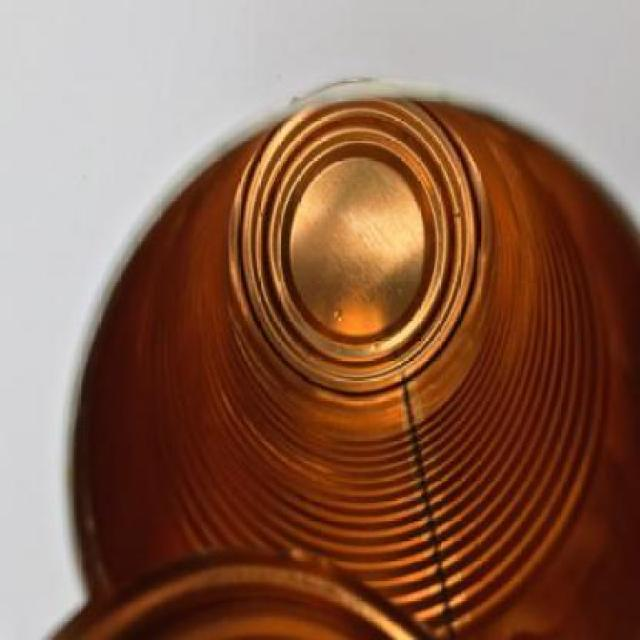METAL: (64, 76, 638, 638), (42, 547, 456, 638)
